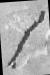G17: (2, 0, 48, 74)
